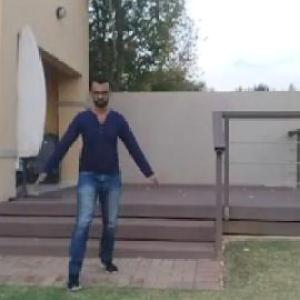land: (21, 59, 158, 295)
